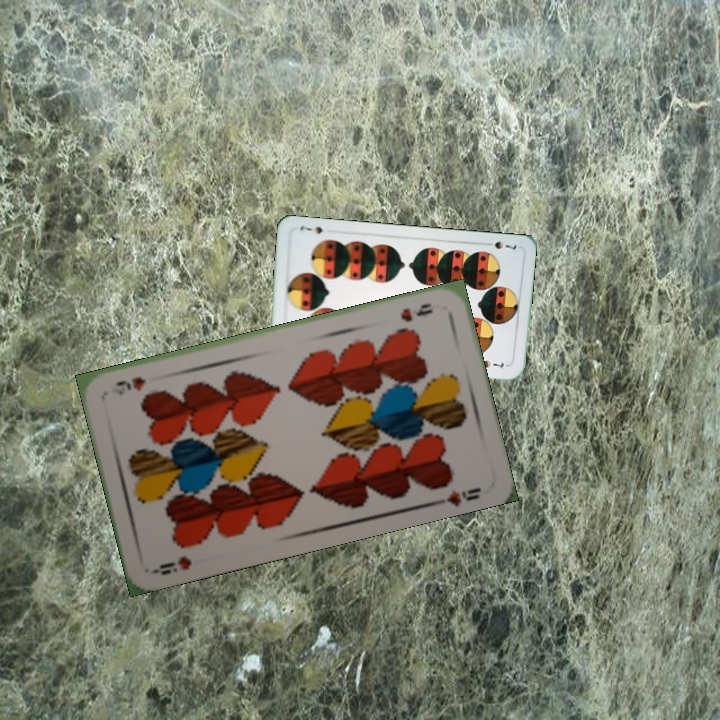H9: (149, 552, 194, 578), (397, 299, 436, 325)
S7: (480, 237, 519, 252)
